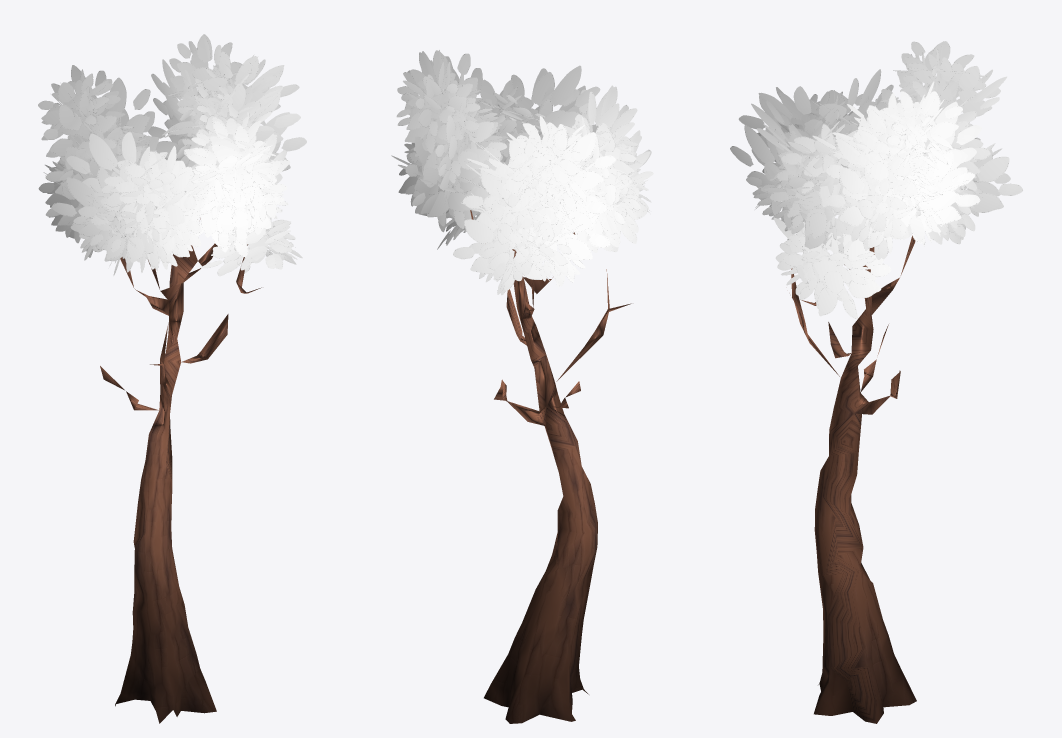
File: CommonTree_4.gltf
3 renders of one model, left to right at view 1: azimuth 30°, elevation 25°; view 2: azimuth 150°, elevation 25°; view 3: azimuth 270°, elevation 25°, orthographic. The views are drawn at different scales.
Visible parts, largest first — view 1: CommonTree_4; view 2: CommonTree_4; view 3: CommonTree_4.
Boxes of the visible parts, box(x1,y1,x2,y2) form: CommonTree_4: box(38, 34, 306, 723); CommonTree_4: box(391, 50, 653, 723); CommonTree_4: box(730, 41, 1022, 723).
Size of the model in its own units: 4.16 by 9.75 by 4.46.
2 materials, 2 textured.
